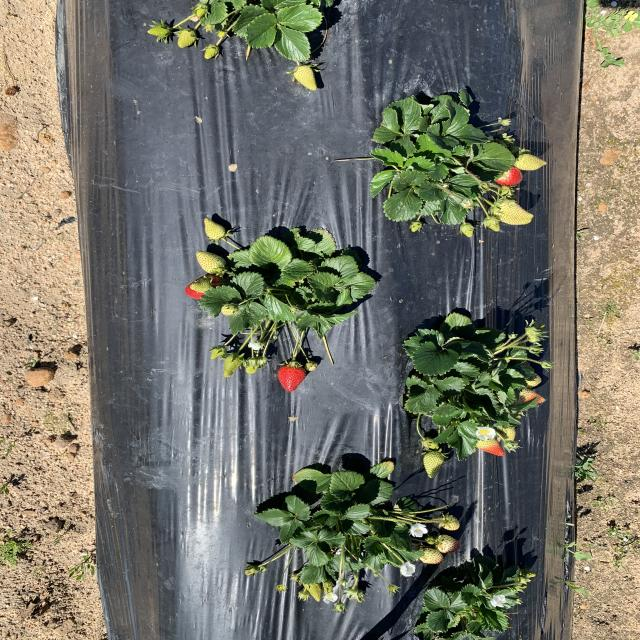unripe: (182, 275, 232, 299), (276, 362, 306, 393), (492, 165, 526, 184)
